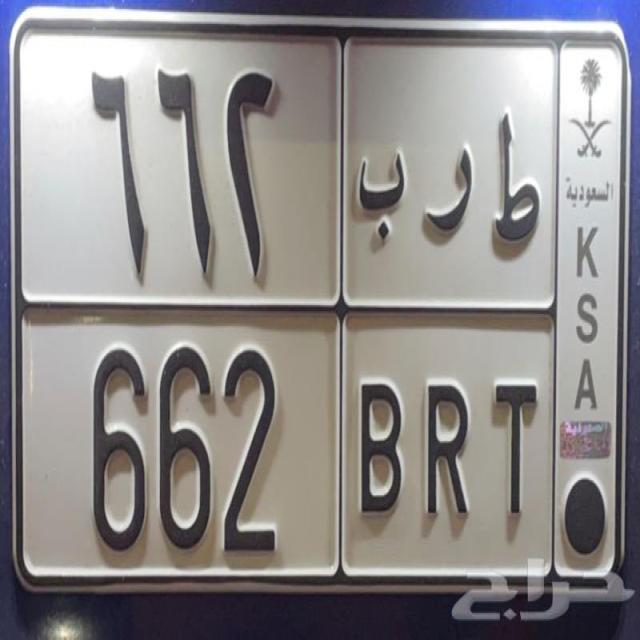license_plate: (16, 292, 558, 587)
